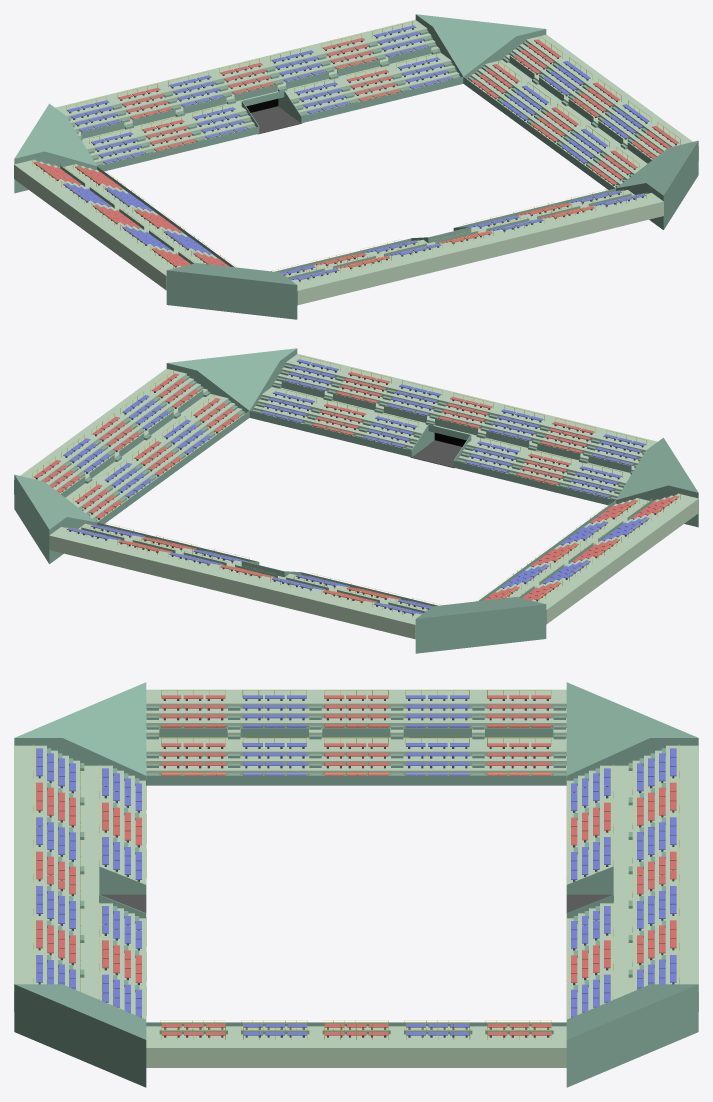
File: stadium.fbx
3 views of the same model, one above another, from view 1: azimuth 30°, elevation 25°; view 2: azimuth 150°, elevation 25°; view 3: azimuth 270°, elevation 25° (orthographic). The views are drawn at different scales.
Visible parts, largest first — view 1: stage2red.002, stage2blue.001, stage1blue.001, -x-y, stage2blue, stage2red.003, stage2red.001, stairs.001, stage2red, +x+y, stage1red.001, +x-y (+11 smaller); view 2: stage2red.002, stage2blue, stage1blue, -x+y, stage2blue.001, stage2red.003, stage2red, stairs, stage2red.001, +x-y, stage1red, +x+y (+11 smaller); view 3: stage2red.003, stage2red.002, +x+y, +x-y, stairs.003, stage2blue.001, stage2blue, stage1blue, stage1blue.001, -x-y, -x+y, stage2blue.003 (+12 smaller).
Part boxes in pixels (x1,y1,x2,y2): stage2red.002: [468, 36, 692, 189]; stage2blue.001: [58, 21, 431, 138]; stage1blue.001: [82, 53, 455, 170]; -x-y: [166, 263, 297, 319]; stage2blue: [287, 192, 655, 303]; stage2red.003: [18, 160, 235, 286]; stage2red.001: [109, 34, 379, 126]; stairs.001: [55, 19, 463, 171]; stage2red: [333, 205, 604, 290]; +x+y: [415, 14, 546, 79]; stage1red.001: [134, 66, 403, 158]; +x-y: [616, 140, 698, 229]; stage2red.002: [20, 370, 244, 523]; stage2blue: [281, 355, 654, 472]; stage1blue: [258, 387, 630, 504]; -x+y: [415, 597, 546, 653]; stage2blue.001: [57, 526, 426, 637]; stage2red.003: [476, 494, 694, 620]; stage2red: [333, 368, 603, 460]; stairs: [249, 354, 657, 505]; stage2red.001: [108, 539, 379, 624]; +x-y: [166, 348, 297, 413]; stage1red: [309, 400, 578, 492]; +x+y: [14, 474, 96, 563]; stage2red.003: [159, 689, 553, 785]; stage2red.002: [159, 1020, 553, 1067]; +x+y: [566, 984, 698, 1087]; +x-y: [14, 984, 146, 1087]; stairs.003: [146, 689, 566, 785]; stage2blue.001: [632, 744, 698, 991]; stage2blue: [14, 744, 80, 991]; stage1blue: [80, 764, 146, 1019]; stage1blue.001: [566, 764, 632, 1019]; -x-y: [14, 682, 146, 780]; -x+y: [566, 682, 698, 780]; stage2blue.003: [240, 689, 471, 737].
Size of the model in its own units: 19269 by 1224 by 15563.
